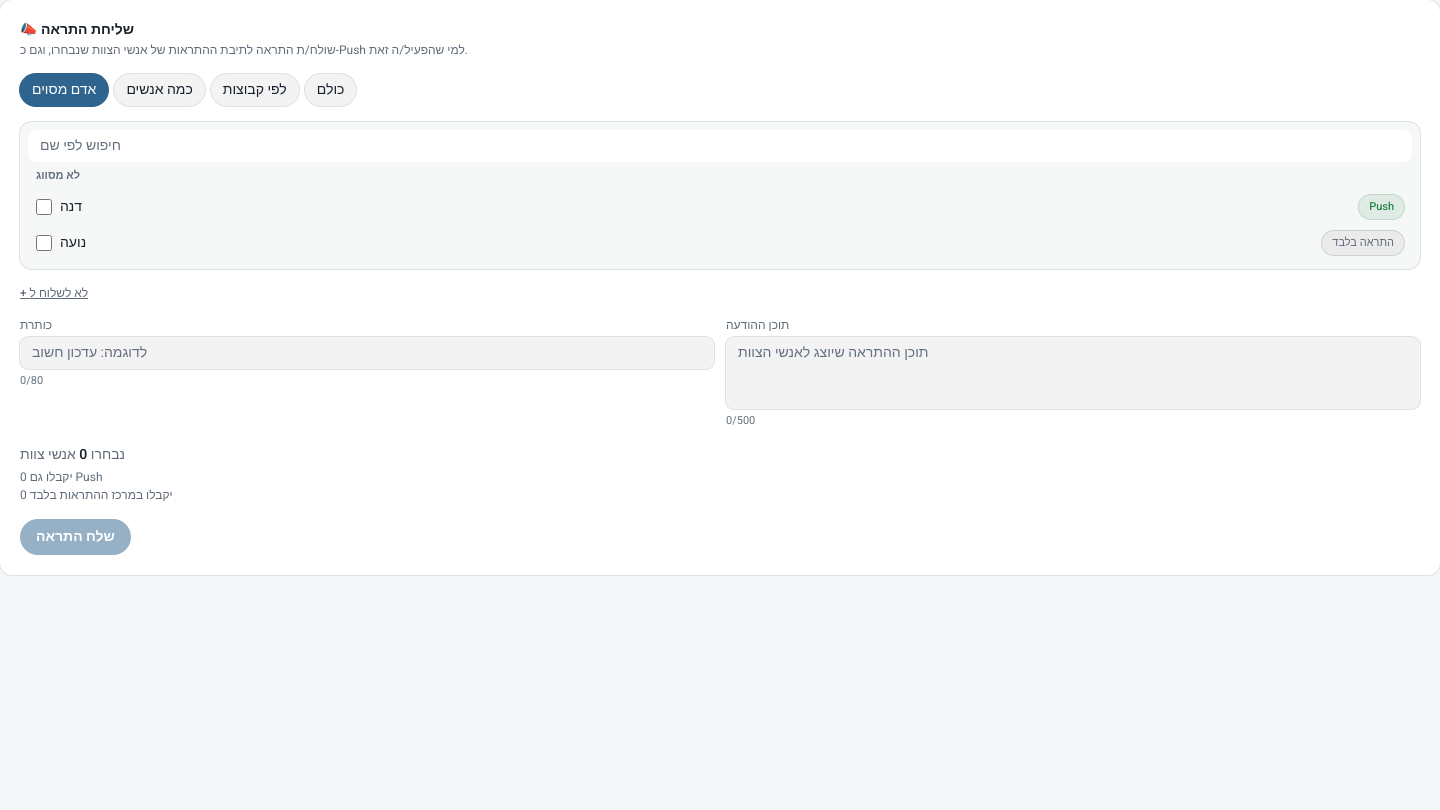
ManagerBroadcastComposer › filters the picker by search query
Type "דנה" into the search field named "חיפוש איש/אשת צוות" at (720, 146), box x1=28 y1=130 x2=1412 y2=162
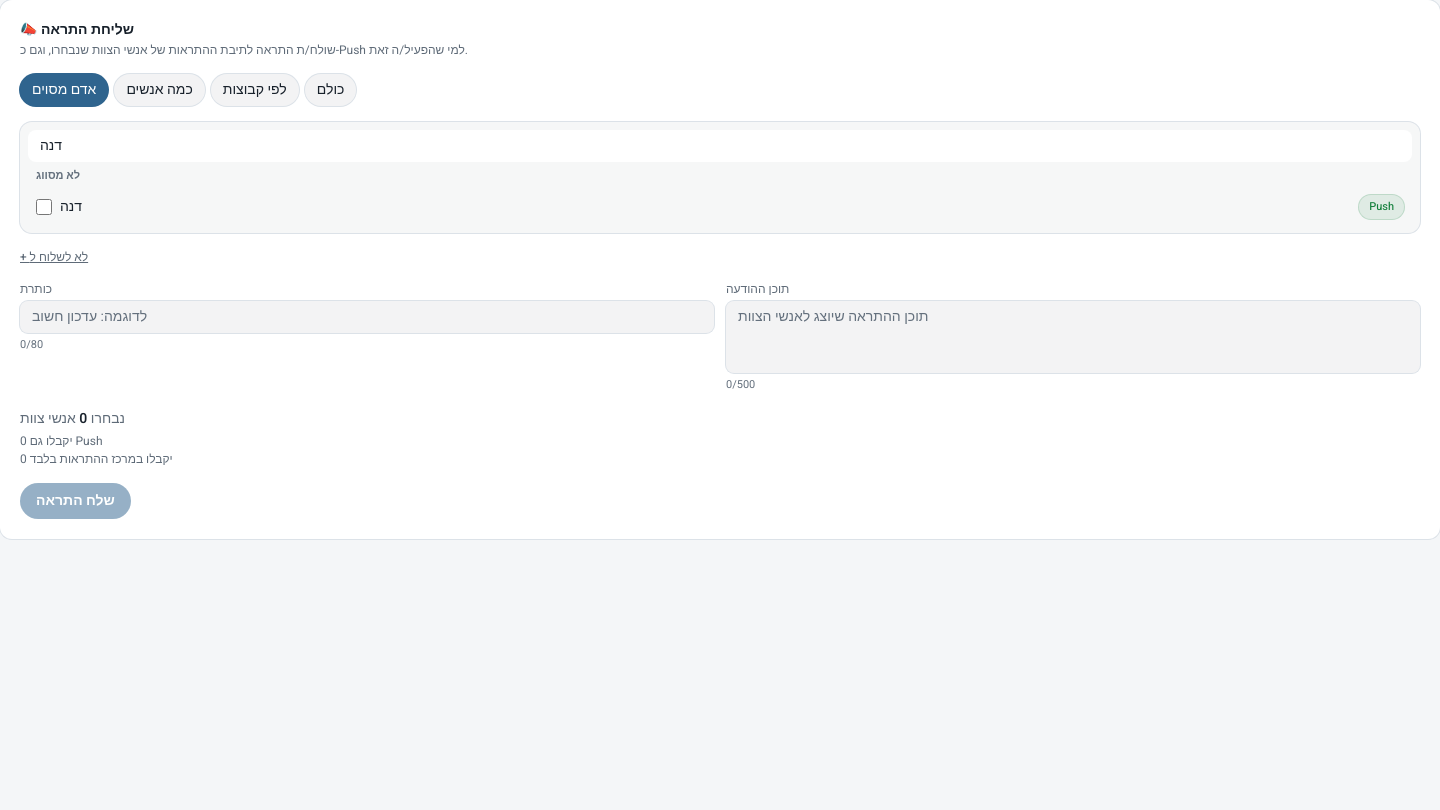
Check: the text "דנה" is shown, box x1=60 y1=196 x2=82 y2=216
Check: the text "נועה" is gone
